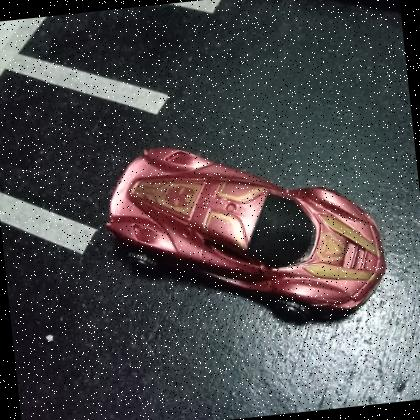Car: (107, 148, 386, 323)
